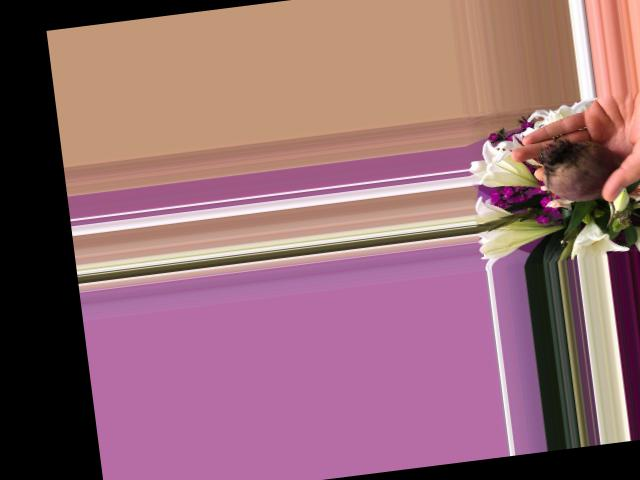beet: (536, 135, 626, 234)
